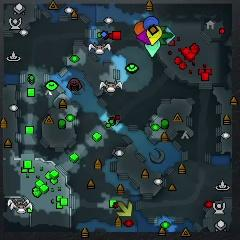p1: (143, 17, 159, 30)
p2: (146, 40, 160, 57)
p3: (136, 32, 150, 45)
p4: (147, 25, 162, 45)
p5: (135, 21, 145, 35)
x2: (117, 201, 133, 218)
x3: (164, 27, 176, 44)
x4: (157, 27, 172, 45)
